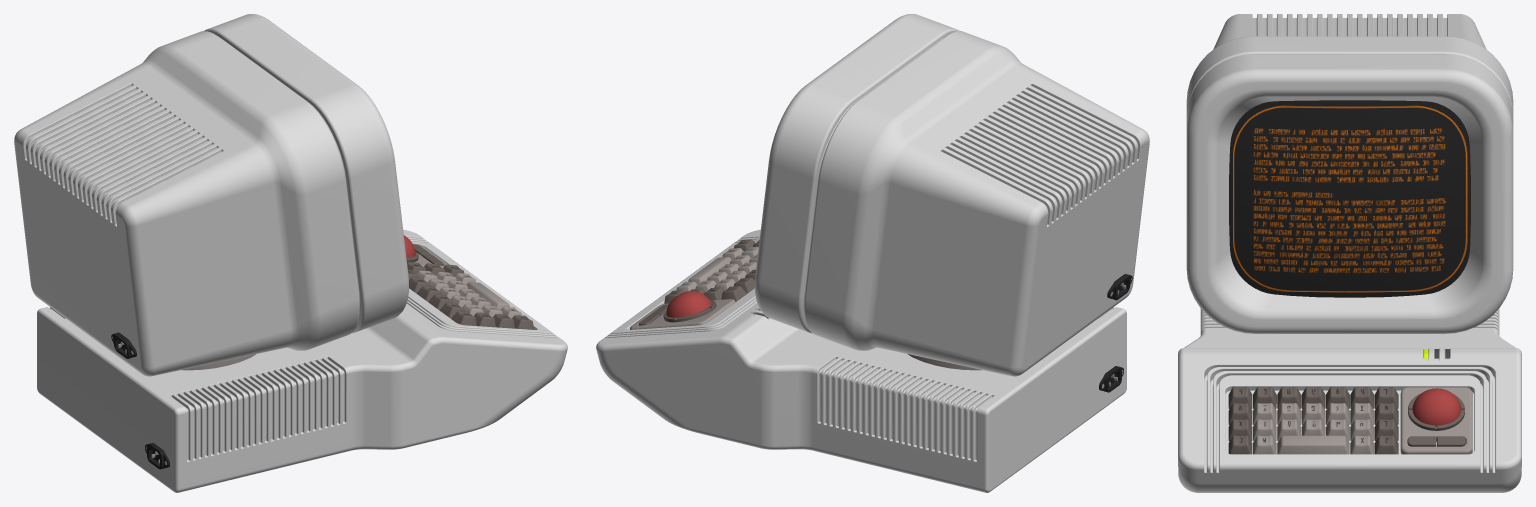
The model's file is computer.fbx.
The picture shows the model from 3 angles, left to right: view 1: azimuth 30°, elevation 25°; view 2: azimuth 150°, elevation 25°; view 3: azimuth 270°, elevation 25°; orthographic projection. The views are drawn at different scales.
Parts seen in each view (by area): view 1: Part2, Part1; view 2: Part2, Part1; view 3: Part2, Part1.
Part boxes in pixels (box(x1,y1,x2,y2)): Part2: box(14, 14, 567, 492); Part1: box(111, 235, 533, 469); Part2: box(596, 14, 1149, 492); Part1: box(630, 239, 1132, 392); Part2: box(1178, 14, 1521, 492); Part1: box(1228, 100, 1472, 454).
Size of the model in its own units: 2 by 1.55 by 1.32.
Materials: 2 (1 with a texture image).
